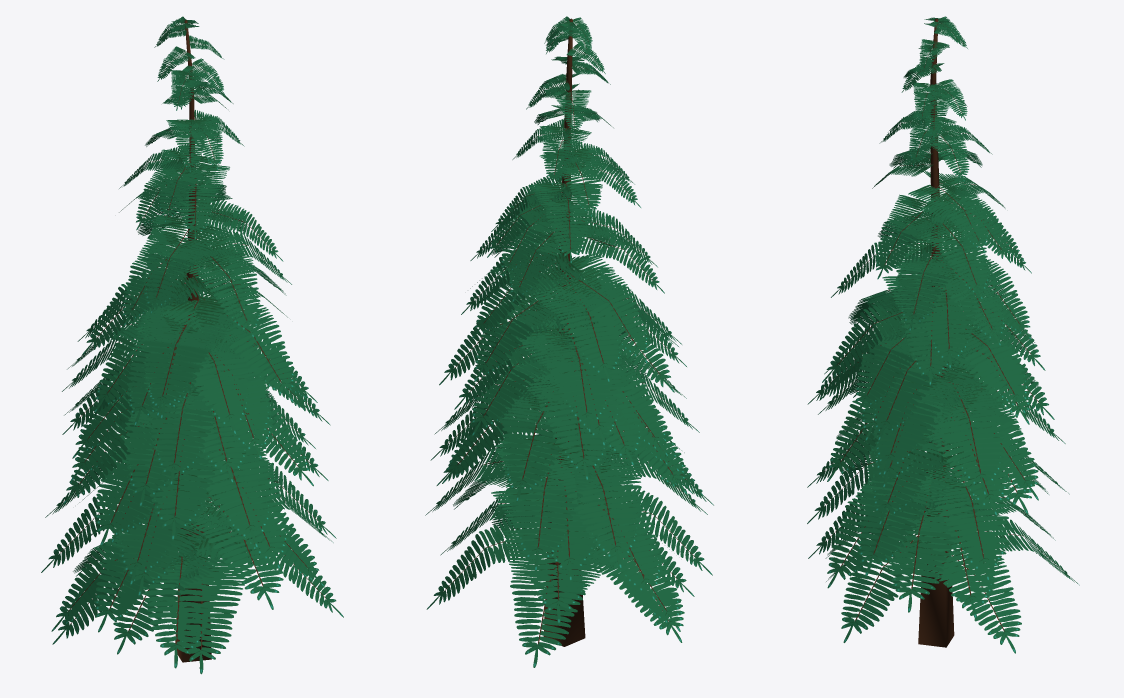
Rendered from pine_bentleaves_LOD1.fbx.
3 views of the same model, side by side, from view 1: azimuth 30°, elevation 25°; view 2: azimuth 150°, elevation 25°; view 3: azimuth 270°, elevation 25° (orthographic). The views are drawn at different scales.
Parts seen in each view (by area): view 1: Pine_BentLeaves; view 2: Pine_BentLeaves; view 3: Pine_BentLeaves.
Part boxes in pixels (x1,y1,x2,y2): Pine_BentLeaves: (41,16,343,674); Pine_BentLeaves: (425,16,713,667); Pine_BentLeaves: (807,16,1079,653).
Size of the model in its own units: 363 by 710 by 356.
Materials: 2 (1 with a texture image).
